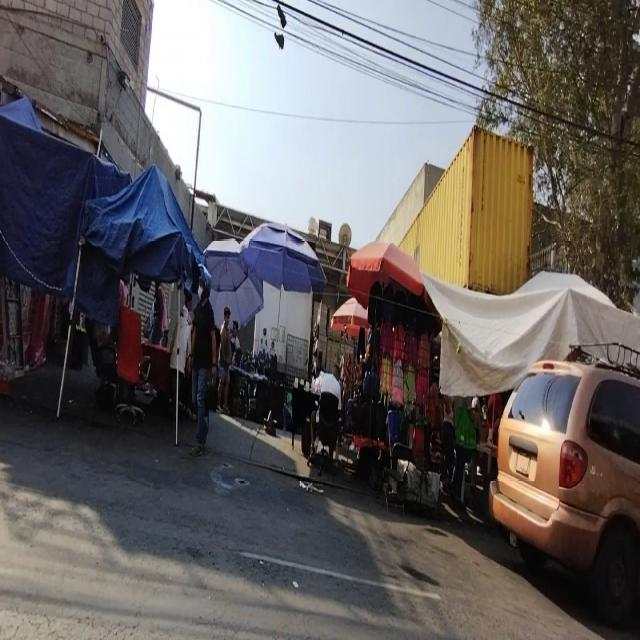adult: (190, 275, 217, 457), (216, 306, 231, 415)
